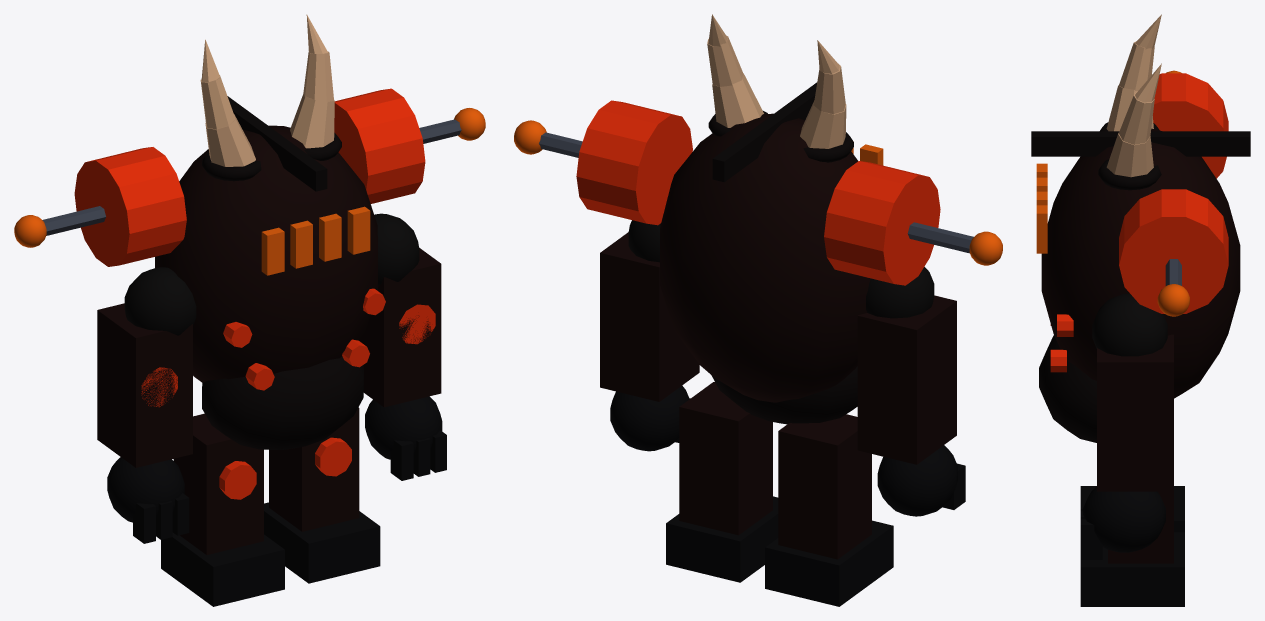
File: Enemy_golem.fbx
3 renders of one model, left to right at view 1: azimuth 30°, elevation 25°; view 2: azimuth 150°, elevation 25°; view 3: azimuth 270°, elevation 25°, orthographic. The views are drawn at different scales.
Visible parts, largest first — view 1: Enemy_golem; view 2: Enemy_golem; view 3: Enemy_golem.
Boxes of the visible parts, left/top/right/bottom form: Enemy_golem: left=14, top=14, right=485, bottom=606; Enemy_golem: left=514, top=14, right=1002, bottom=606; Enemy_golem: left=1031, top=14, right=1250, bottom=606.
Bounding box in the file's own units: 0.9776 × 1.06 × 0.4.
